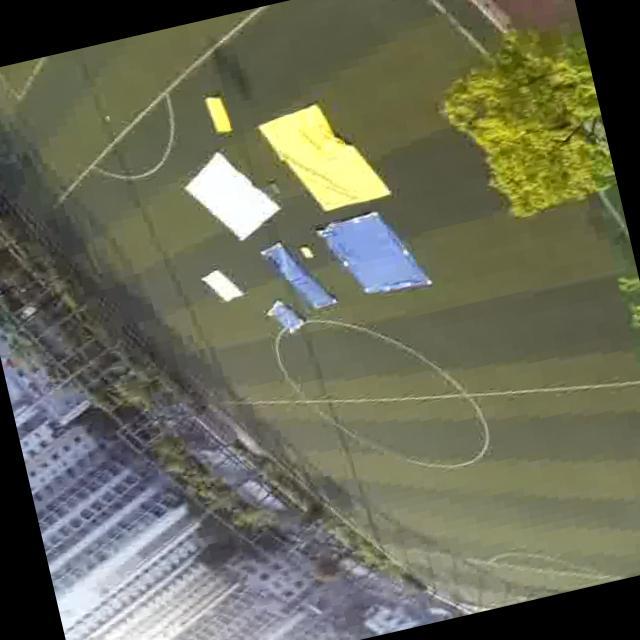danger: (337, 204, 422, 298), (261, 240, 300, 280), (264, 299, 304, 336)
safety: (191, 156, 278, 246), (202, 262, 250, 310)
warning: (277, 104, 367, 213), (203, 92, 232, 136)
